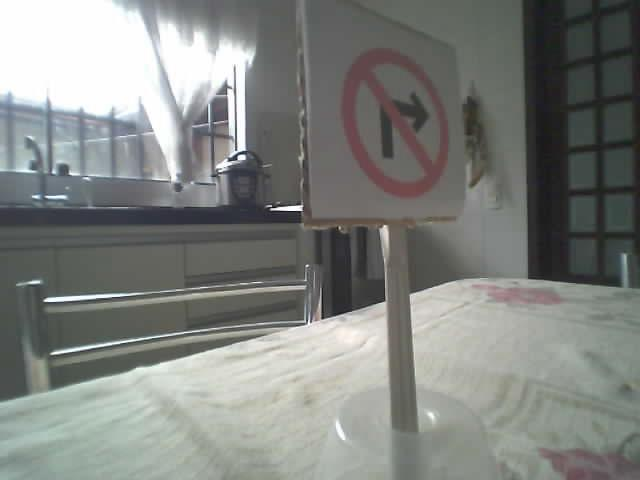R-4b_proibido-direita: (341, 47, 448, 195)
